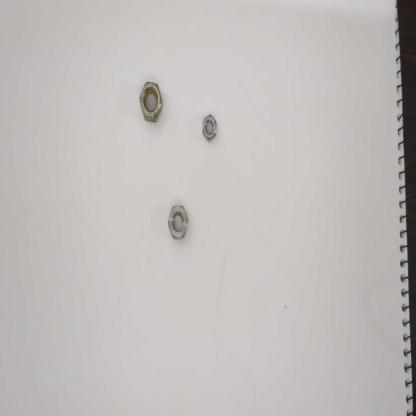NUTS: (140, 76, 163, 126), (167, 202, 189, 244), (202, 114, 219, 144)
